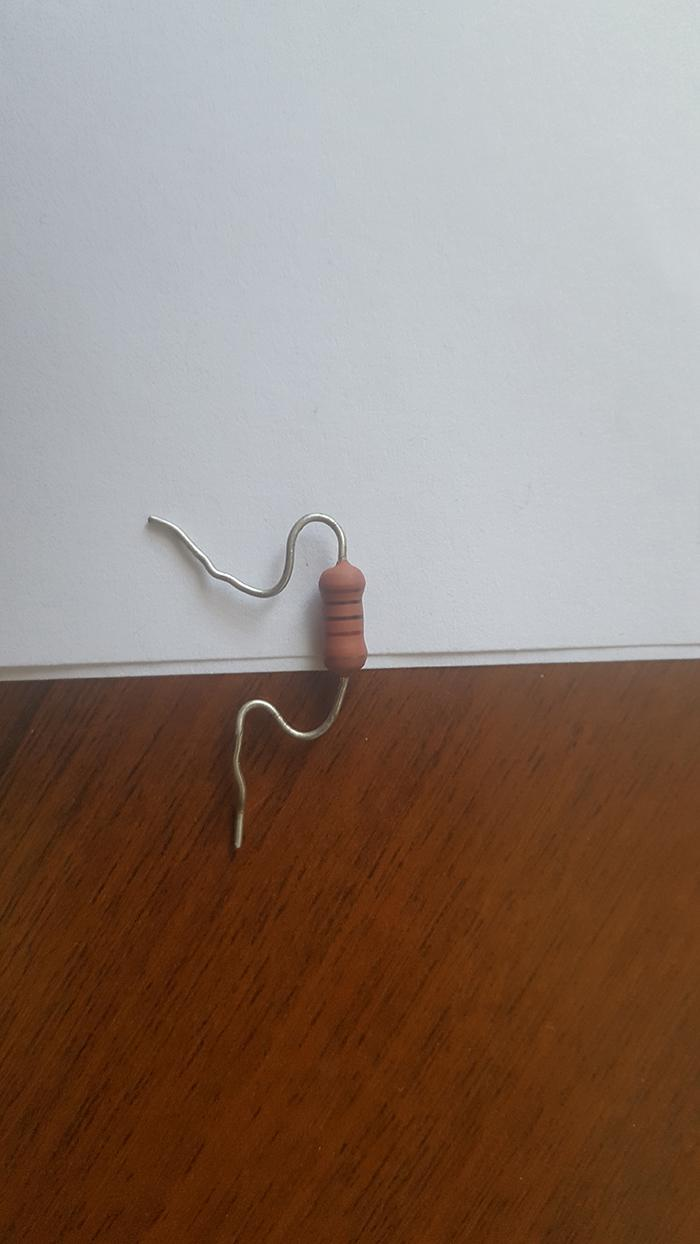resistor: (317, 558, 366, 672)
